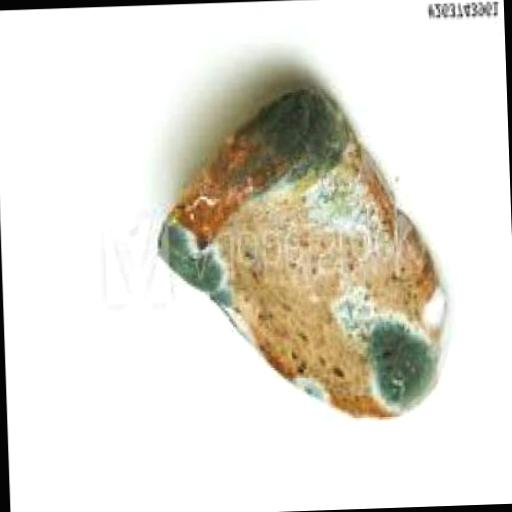biodegradable: (144, 80, 450, 429)
